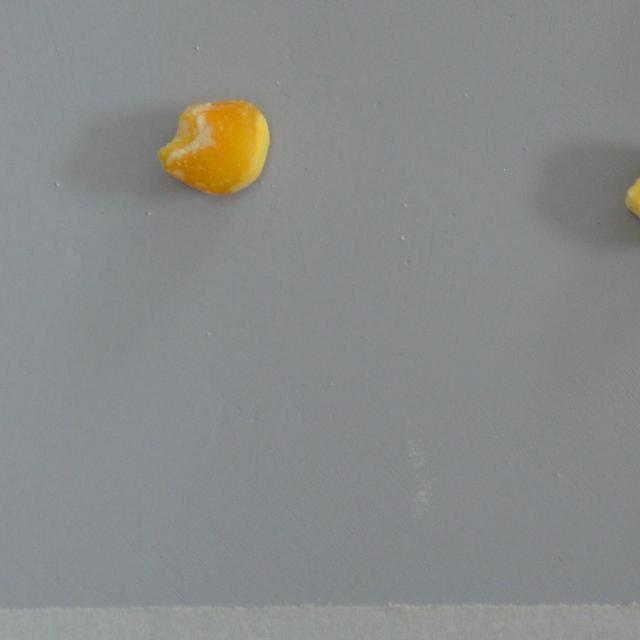pelicula: (158, 99, 269, 197), (623, 132, 640, 248)
